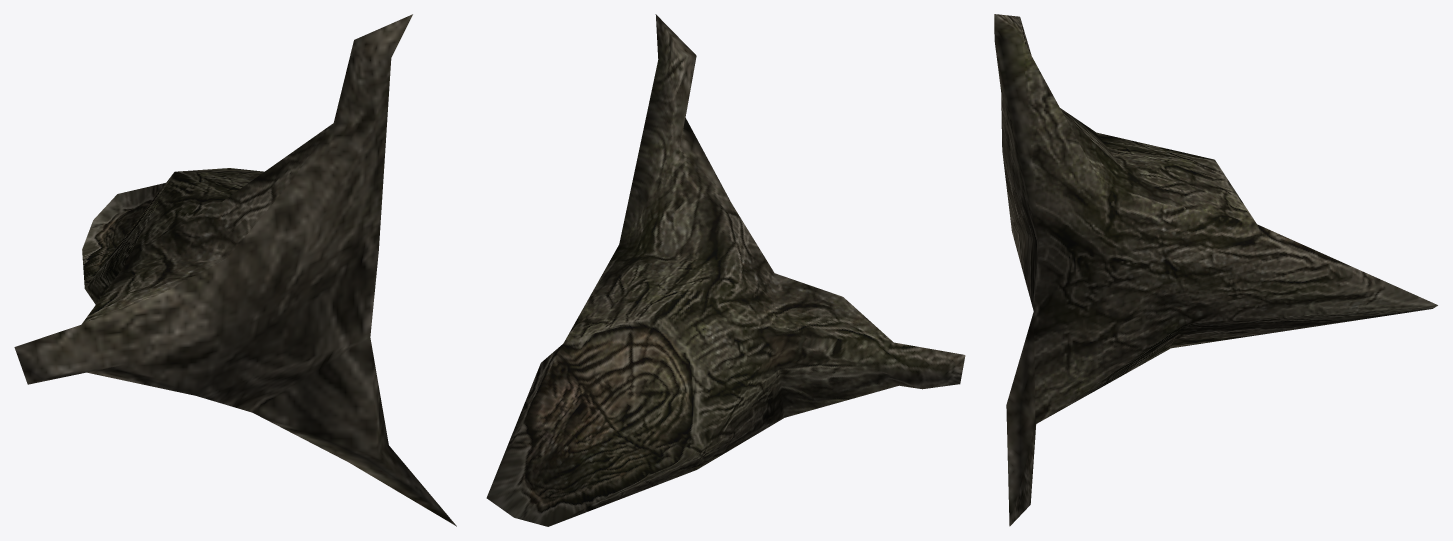
Rendered from MEP_TreeStump.fbx.
The picture shows the model from 3 angles, left to right: view 1: azimuth 30°, elevation 25°; view 2: azimuth 150°, elevation 25°; view 3: azimuth 270°, elevation 25°; orthographic projection. The views are drawn at different scales.
Visible parts, largest first — view 1: MEP_TreeStump; view 2: MEP_TreeStump; view 3: MEP_TreeStump.
Boxes of the visible parts, <box> form: MEP_TreeStump: <box>14,14,456,526</box>; MEP_TreeStump: <box>486,14,965,526</box>; MEP_TreeStump: <box>994,14,1437,526</box>.
Bounding box in the file's own units: 1.91 × 2.29 × 1.89.
